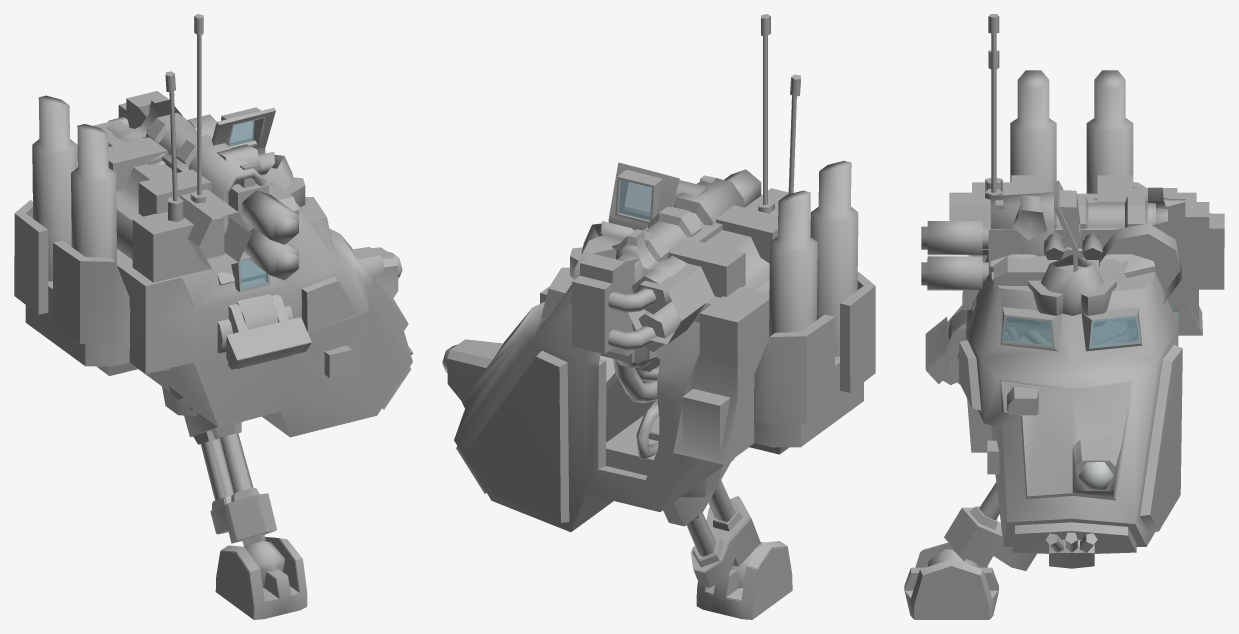
File: sentinel_melta_rocket-1k3bunq.glb
The picture shows the model from 3 angles, left to right: view 1: azimuth 30°, elevation 25°; view 2: azimuth 150°, elevation 25°; view 3: azimuth 270°, elevation 25°; orthographic projection. The views are drawn at different scales.
Parts seen in each view (by area): view 1: turret, turret_interior, body, gun, legr3, gun1, legl2, legl3, legl4, legr4, door, legl1 (+1 smaller); view 2: turret, turret_interior, gun, body, gun1, legr3, legr4, door, legl3, legl4; view 3: turret, turret_interior, gun, body, legl4, gun1, legl3, gun_rot_melta, door, legr2, legl2, legl1.
Part boxes in pixels (x1,y1,x2,y2): turret: (14,14,412,437); turret_interior: (14,96,412,435); body: (77,121,305,268); gun: (106,91,298,280); legr3: (190,421,275,587); gun1: (144,112,266,278); legl2: (168,294,310,409); legl3: (184,412,284,571); legl4: (221,537,307,619); legr4: (215,537,306,619); door: (212,107,275,154); legl1: (217,260,278,329); turret: (442,14,875,531); turret_interior: (447,161,875,531); gun: (571,169,761,403); body: (570,188,810,344); gun1: (616,176,743,371); legr3: (636,415,760,588); legr4: (696,547,792,619); door: (608,162,679,230); legl3: (636,404,761,571); legl4: (696,541,791,600); turret: (959,14,1202,568); turret_interior: (959,70,1202,553); gun: (921,187,1224,345); body: (949,175,1196,326); legl4: (904,542,998,619); gun1: (990,192,1167,331); legl3: (928,482,1036,568); gun_rot_melta: (993,256,1061,290); door: (1054,180,1080,272); legr2: (926,318,1010,384); legl2: (925,305,1007,369); legl1: (948,247,1084,340).
Bounding box in the file's own units: 46.98 × 70.9 × 35.97.
